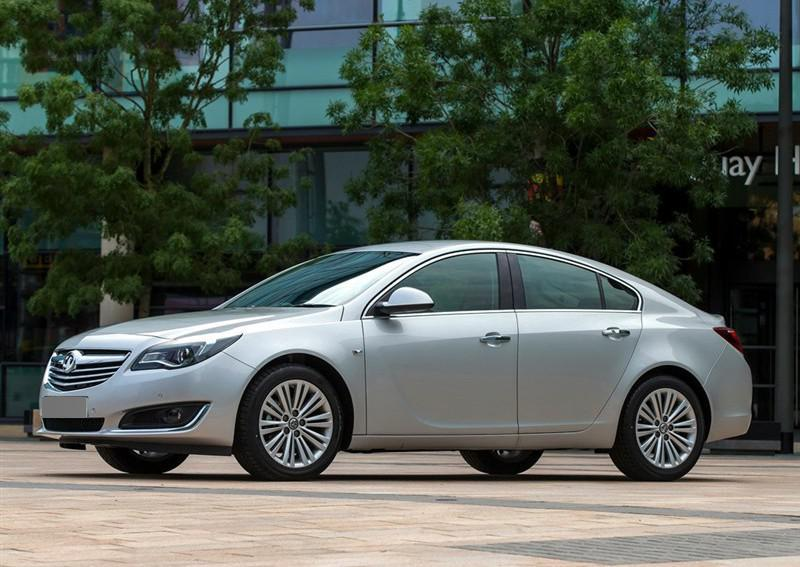Wagon: (32, 237, 754, 482)
